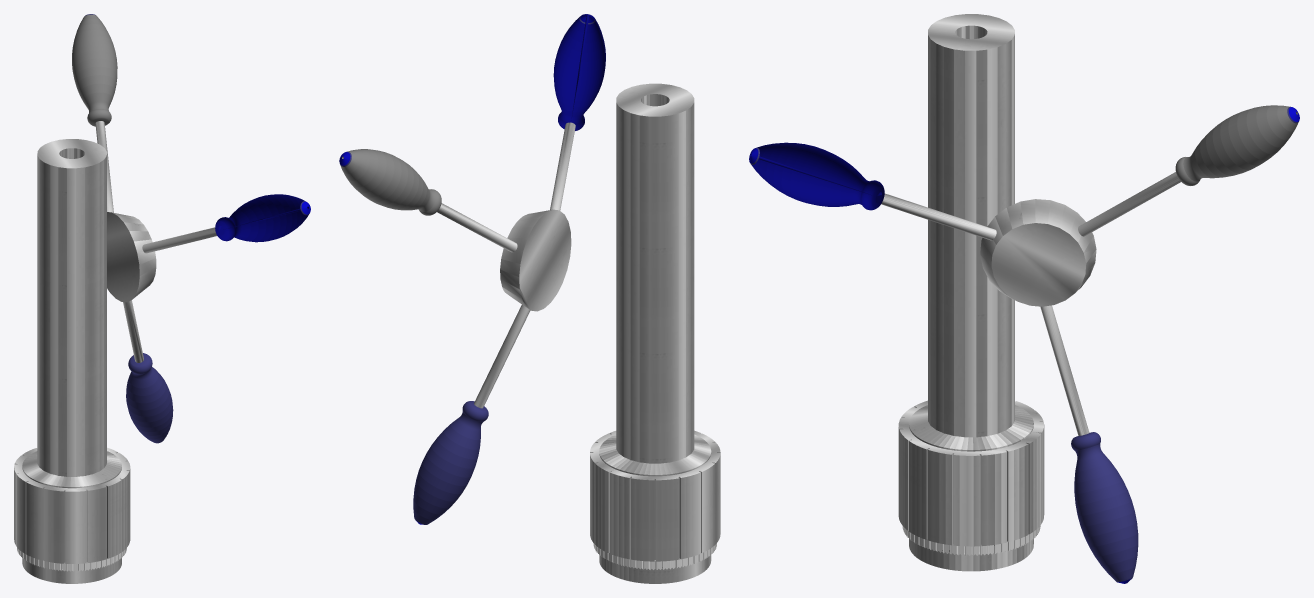
The picture shows the model from 3 angles, left to right: view 1: azimuth 30°, elevation 25°; view 2: azimuth 150°, elevation 25°; view 3: azimuth 270°, elevation 25°; orthographic projection. The views are drawn at different scales.
Parts seen in each view (by area): view 1: 03, 02.001; view 2: 03, 02.001; view 3: 03, 02.001.
Part boxes in pixels (x1,y1,x2,y2): 03: (14, 139, 130, 583); 02.001: (72, 14, 310, 443); 03: (590, 83, 720, 583); 02.001: (339, 14, 605, 524); 03: (898, 14, 1044, 571); 02.001: (749, 105, 1299, 583).
Size of the model in its own units: 253 by 495 by 469.
Materials: 7 (2 with a texture image).
